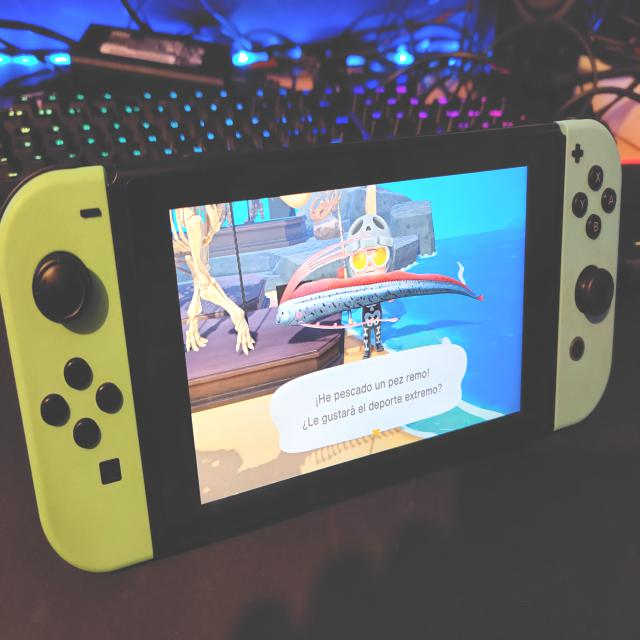text_bubble: (271, 342, 468, 456)
